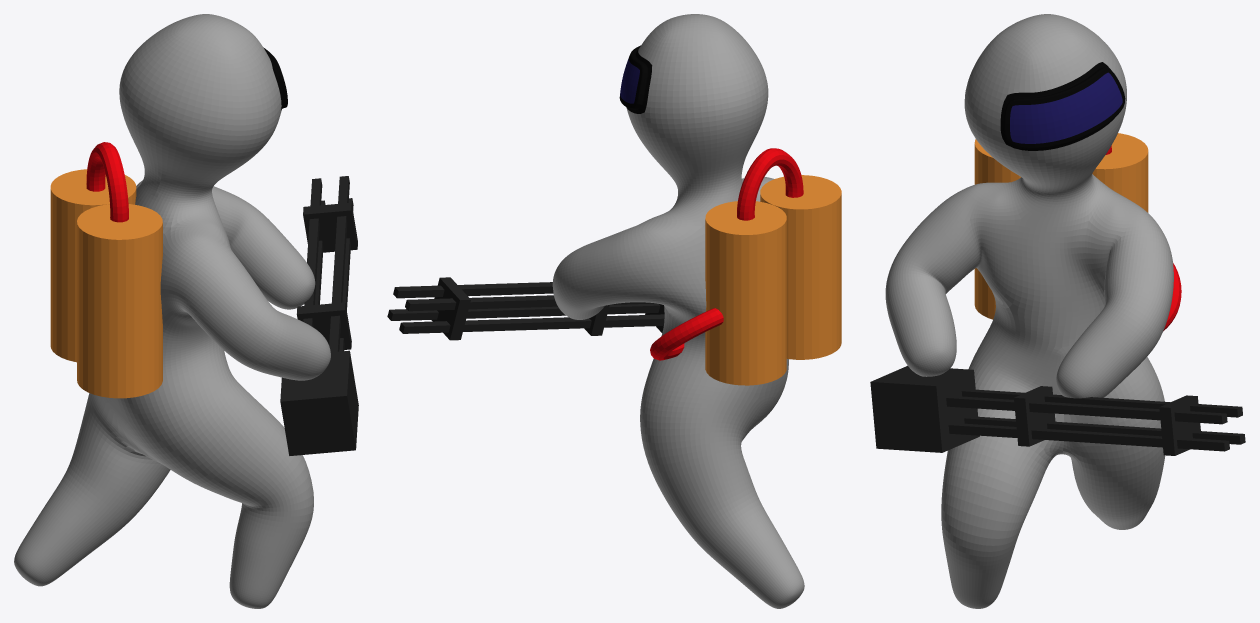
File: poz.fbx
3 renders of one model, left to right at view 1: azimuth 30°, elevation 25°; view 2: azimuth 150°, elevation 25°; view 3: azimuth 270°, elevation 25°, orthographic. The views are drawn at different scales.
Parts seen in each view (by area): view 1: Plane; view 2: Plane; view 3: Plane.
Boxes of the visible parts, x1,y1,x2,y2 form: Plane: (14,14,358,608); Plane: (387,14,841,608); Plane: (870,14,1245,608).
Size of the model in its own units: 239 by 335 by 197.
